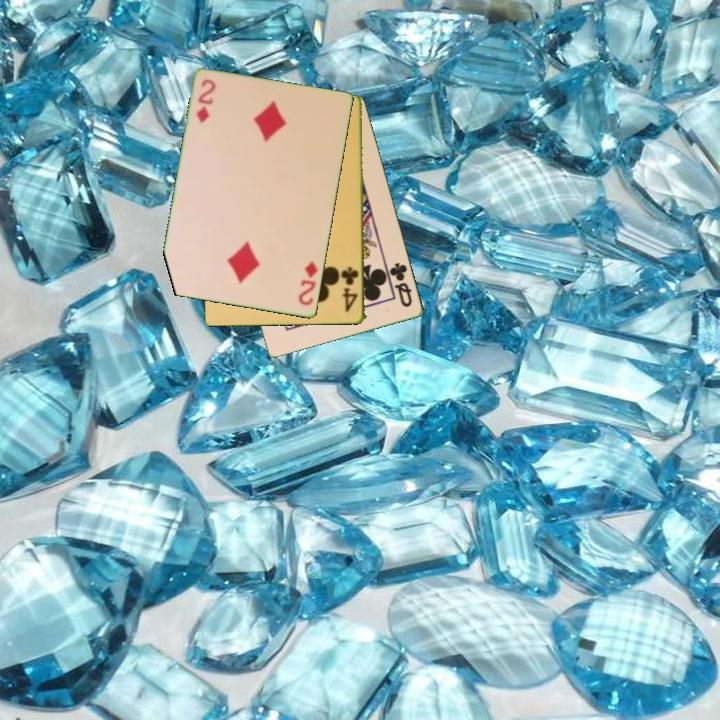2d: (295, 258, 321, 309), (193, 76, 218, 126)
4c: (339, 264, 362, 316)
Qc: (386, 259, 415, 310)
